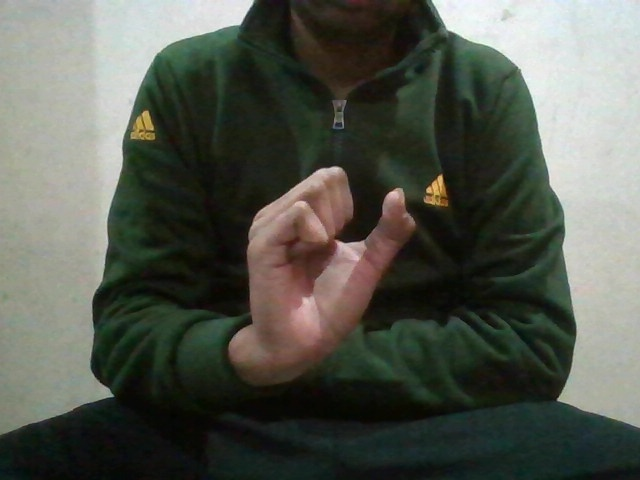S: (238, 167, 413, 349)
